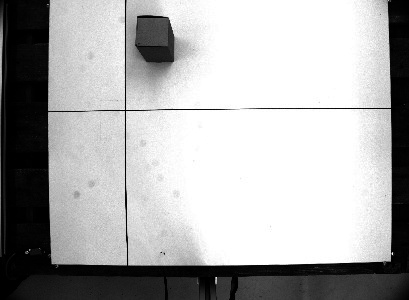b2: (133, 10, 177, 64)
